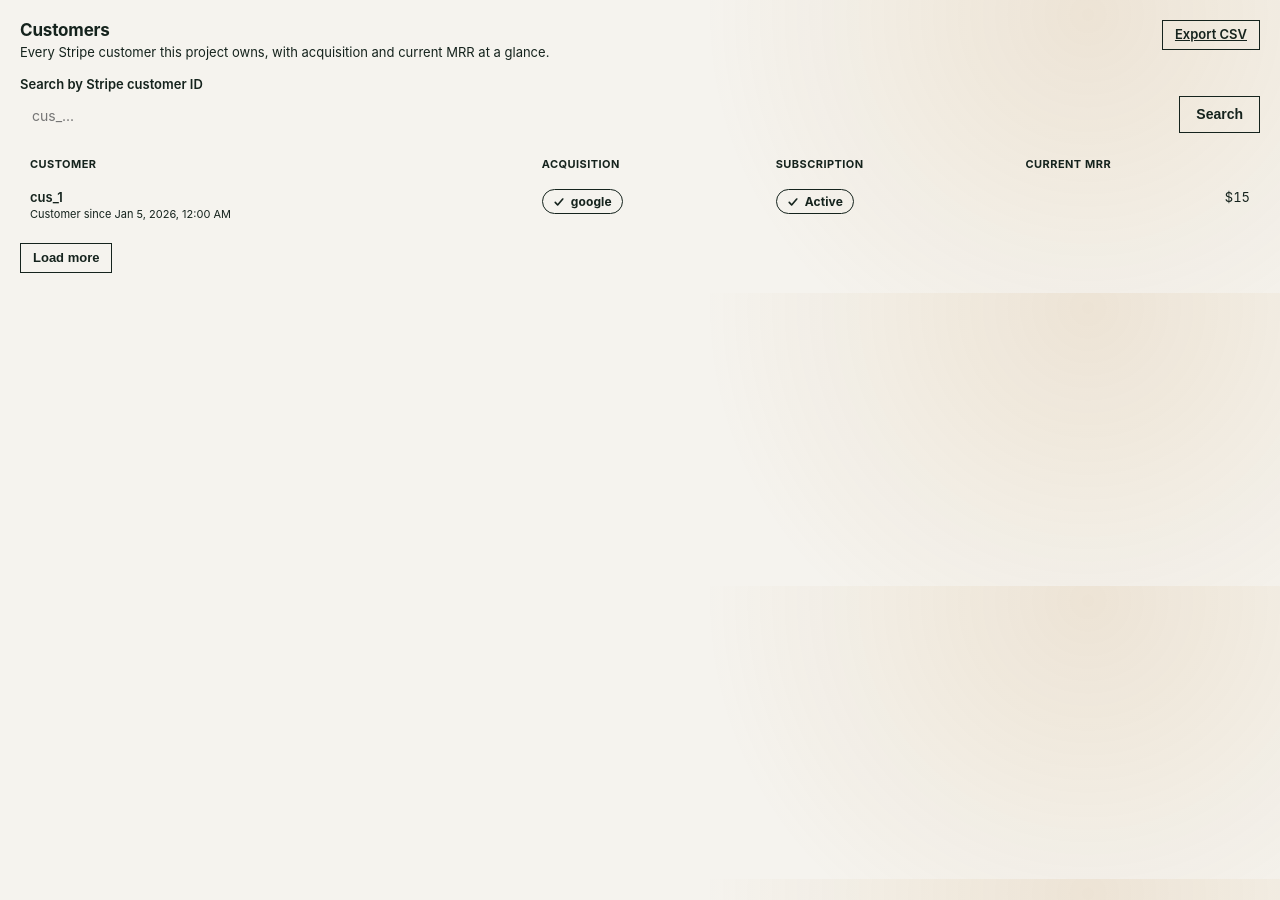
Test: CustomersClient › loads the next page and appends entries
This screenshot has width=1280, height=900.
expect the link "cus_1" is shown: met, box [30,189,63,205]
Click the button "Load more": (66, 258) [20,243,112,273]
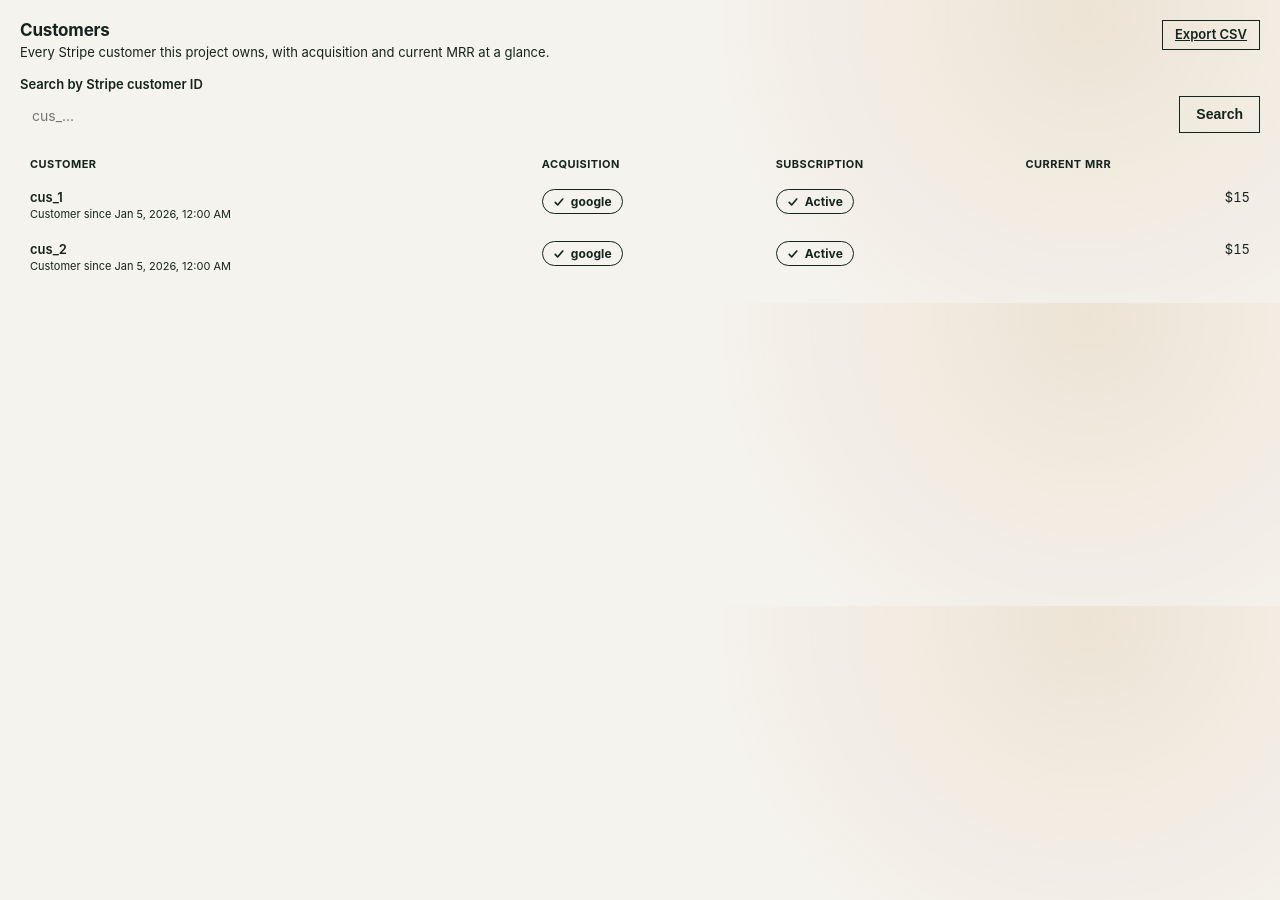
expect the link "cus_1" is shown: met, box [30,189,63,205]
expect the link "cus_2" is shown: met, box [30,241,67,257]
